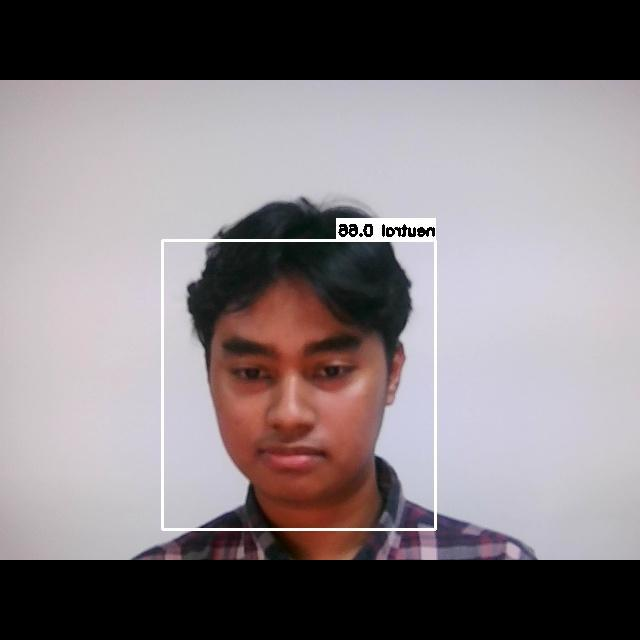Natural: (196, 302, 388, 485)
